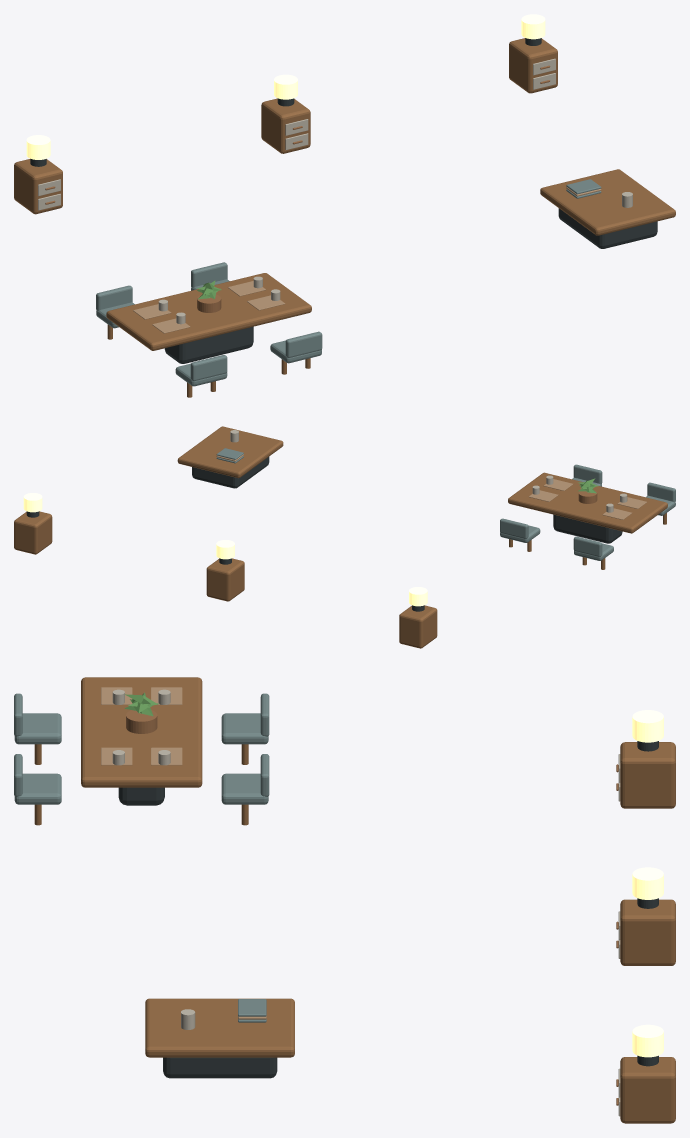
Rendered from habitat-interior.glb.
The picture shows the model from 3 angles, top to bottom: view 1: azimuth 30°, elevation 25°; view 2: azimuth 150°, elevation 25°; view 3: azimuth 270°, elevation 25°; orthographic projection. The views are drawn at different scales.
Visible parts, largest first — view 1: Furniture_Wood, Furniture_Fabric, Furniture_Graphite, Furniture_Ivory, Furniture_Warm, Furniture_Linen; view 2: Furniture_Wood, Furniture_Fabric, Furniture_Graphite, Furniture_Warm, Furniture_Linen, Furniture_Ivory; view 3: Furniture_Wood, Furniture_Fabric, Furniture_Graphite, Furniture_Warm, Furniture_Linen, Furniture_Ivory, Furniture_Copper.
Boxes of the visible parts, x1,y1,x2,y2 form: Furniture_Wood: (14,38,675,397); Furniture_Fabric: (96,179,601,386); Furniture_Graphite: (30,38,657,363); Furniture_Ivory: (38,58,632,324); Furniture_Warm: (26,14,545,159); Furniture_Linen: (133,187,601,333); Furniture_Wood: (14,426,667,648); Furniture_Fabric: (216,448,675,560); Furniture_Graphite: (26,457,622,611); Furniture_Warm: (23,493,427,606); Furniture_Linen: (216,454,646,519); Furniture_Ivory: (230,430,627,512); Furniture_Wood: (34,677,675,1123); Furniture_Fabric: (14,693,269,1022); Furniture_Graphite: (118,741,658,1078); Furniture_Warm: (632,710,663,1057); Furniture_Linen: (101,687,266,1019); Furniture_Ivory: (112,689,620,1116); Furniture_Copper: (126,710,618,1105).
Size of the model in its own units: 12.96 by 1.46 by 9.28.
